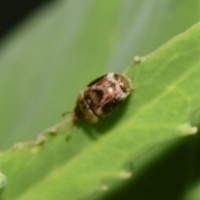insect: (72, 72, 133, 123)
